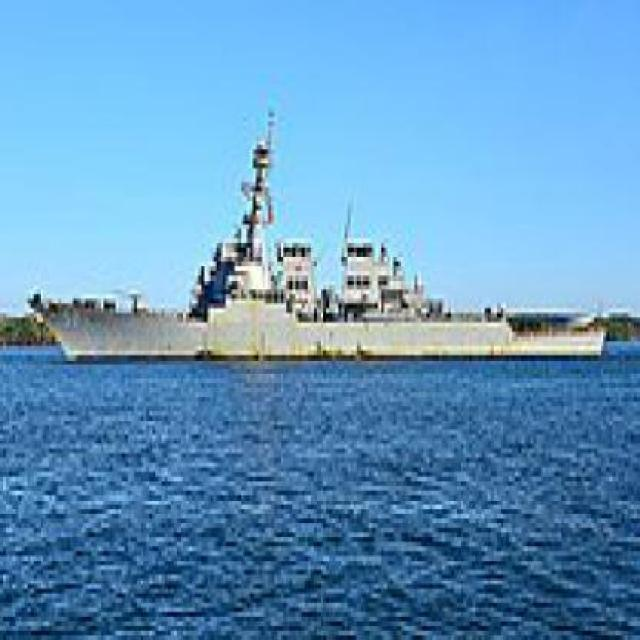warship2: (23, 113, 626, 375)
